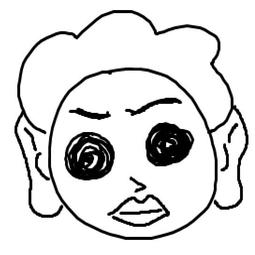cupid_mouth: (103, 192, 175, 229)
eye: (61, 128, 117, 187), (142, 118, 198, 174)
eyebrow: (125, 92, 184, 116), (68, 101, 116, 124)
large_ear: (11, 109, 62, 226), (207, 100, 252, 219)
pointy_nose: (128, 170, 150, 193)
